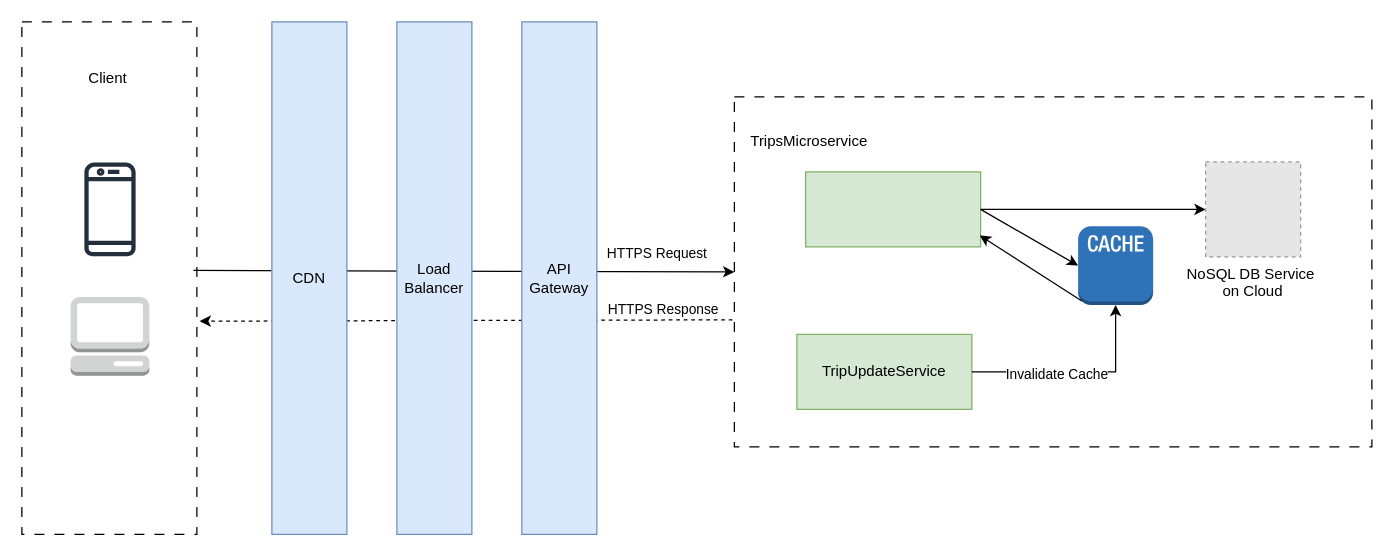
Image size: 1394x556. Some labels were removed from this diagram. Grey dashed boxes stand in for pictures. Each missing label, with the box of its shape:
Cache Cloud Service: (1077, 225, 1153, 305)
TripService: (804, 171, 981, 247)
